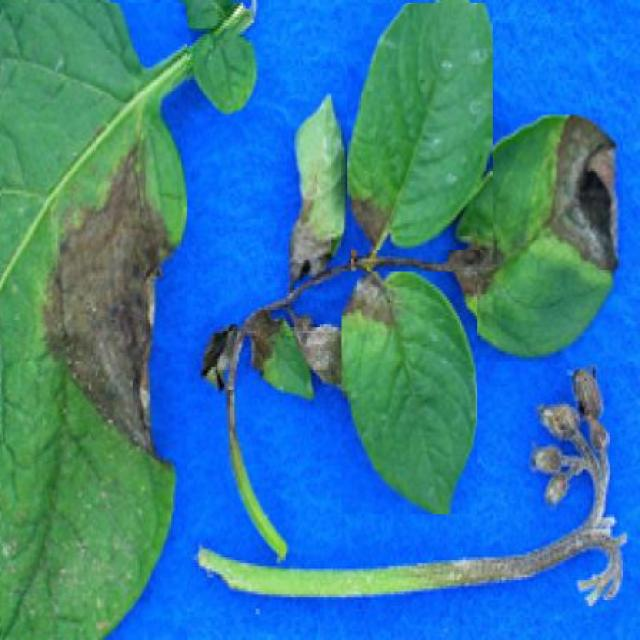Late Blight: (2, 3, 188, 640), (448, 115, 623, 362), (347, 3, 493, 250), (342, 271, 477, 515), (290, 94, 350, 285)
